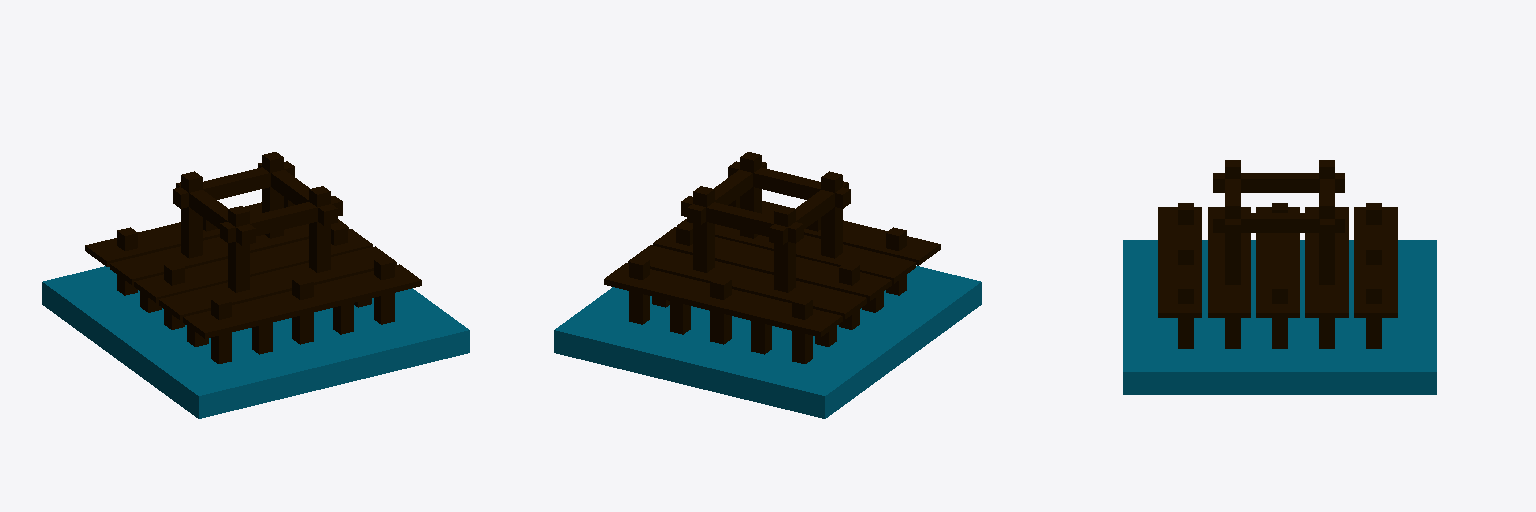
The model's file is Fishery0.obj.
3 views of the same model, side by side, from view 1: azimuth 30°, elevation 25°; view 2: azimuth 150°, elevation 25°; view 3: azimuth 270°, elevation 25° (orthographic).
Visible parts, largest first — view 1: Tilebase118, Box905, Box888, Box906, Box918, Box919, Box910, Box911, Box889, Box908, Box909, Box912 (+9 smaller); view 2: Tilebase118, Box919, Box918, Box906, Box888, Box905, Box911, Box910, Box907, Box909, Box908, Box912 (+9 smaller); view 3: Tilebase118, Box905, Box919, Box906, Box918, Box888, Box912, Box913, Box907, Box889, Box891, Box894 (+3 smaller).
Boxes of the visible parts, <box> form: Tilebase118: <box>42,266,469,418</box>; Box905: <box>183,264,421,338</box>; Box888: <box>159,246,396,320</box>; Box906: <box>134,229,372,302</box>; Box918: <box>110,219,348,284</box>; Box919: <box>85,202,261,266</box>; Box910: <box>220,196,342,242</box>; Box911: <box>173,161,294,208</box>; Box889: <box>309,186,330,272</box>; Box908: <box>228,206,249,292</box>; Box909: <box>181,171,202,258</box>; Box912: <box>176,182,255,245</box>; Tilebase118: <box>554,266,981,418</box>; Box919: <box>604,263,842,337</box>; Box918: <box>628,245,866,318</box>; Box906: <box>653,227,891,300</box>; Box888: <box>677,219,915,283</box>; Box905: <box>762,201,940,265</box>; Box911: <box>681,196,803,243</box>; Box910: <box>728,161,850,208</box>; Box907: <box>693,186,714,272</box>; Box909: <box>774,206,795,292</box>; Box908: <box>821,171,842,258</box>; Box912: <box>769,181,848,244</box>; Tilebase118: <box>1123,240,1436,394</box>; Box905: <box>1158,207,1201,317</box>; Box919: <box>1354,207,1397,317</box>; Box906: <box>1256,207,1299,317</box>; Box918: <box>1305,207,1348,317</box>; Box888: <box>1208,207,1250,317</box>; Box912: <box>1213,173,1344,192</box>; Box913: <box>1213,213,1344,232</box>; Box907: <box>1319,200,1334,284</box>; Box889: <box>1225,200,1240,284</box>; Box891: <box>1272,283,1287,348</box>; Box894: <box>1366,283,1381,348</box>.
Bounding box in the file's own units: 10 × 5.13 × 10.